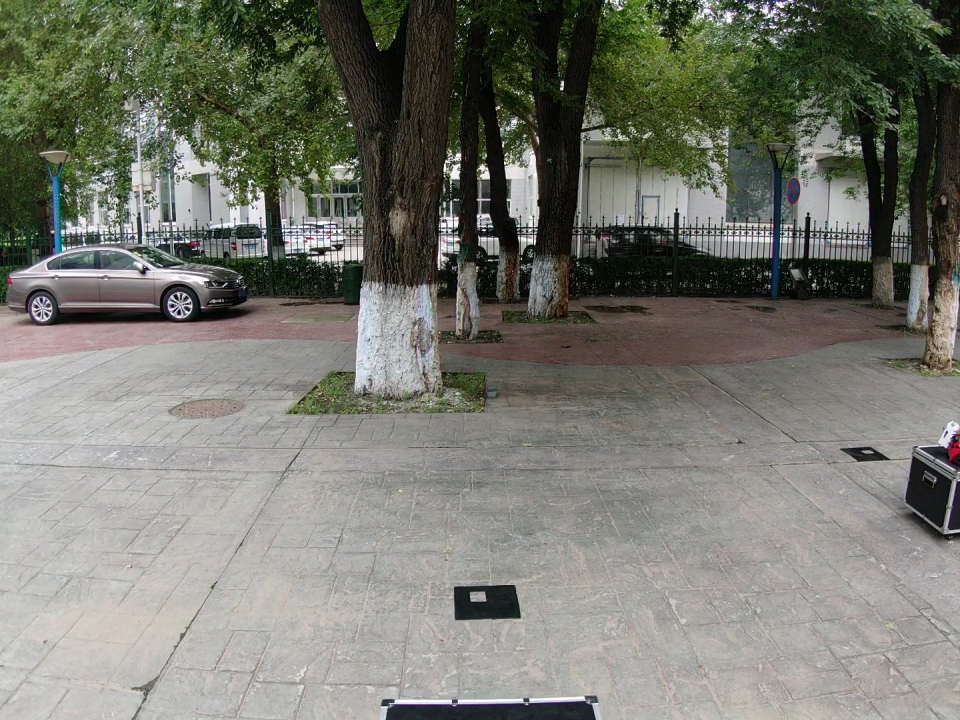qrcode: (454, 585, 521, 620), (840, 447, 891, 462)
